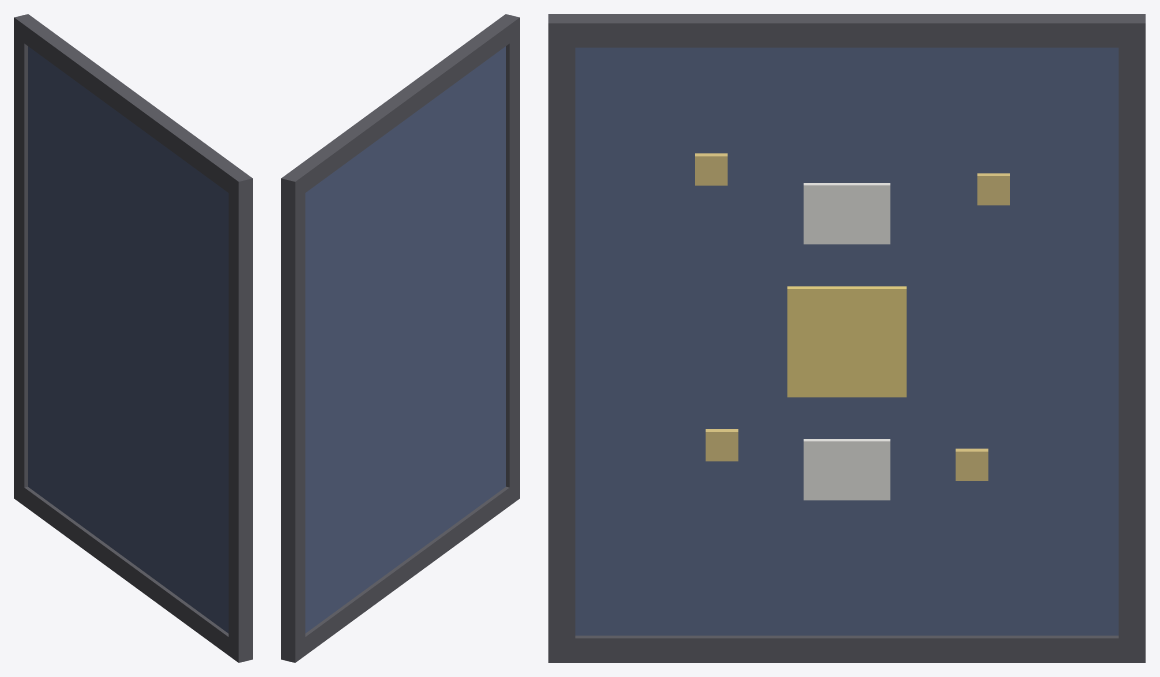
The model's file is Poster_Galaxy.glb.
3 views of the same model, side by side, from view 1: azimuth 30°, elevation 25°; view 2: azimuth 150°, elevation 25°; view 3: azimuth 270°, elevation 25° (orthographic). The views are drawn at different scales.
Parts seen in each view (by area): view 1: Poster_Galaxy; view 2: Poster_Galaxy; view 3: Poster_Galaxy.
Part boxes in pixels (x1=…): Poster_Galaxy: x1=14, y1=14, x2=252, y2=662; Poster_Galaxy: x1=281, y1=14, x2=519, y2=662; Poster_Galaxy: x1=548, y1=14, x2=1145, y2=662.
Size of the model in its own units: 0.0204 by 0.65 by 0.55.
